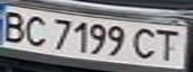1: (66, 19, 90, 54)
7: (48, 16, 72, 52)
9: (103, 22, 130, 58), (87, 20, 109, 56)
B: (0, 8, 30, 44)
C: (130, 25, 163, 61), (21, 12, 51, 47)
T: (151, 26, 187, 62)
